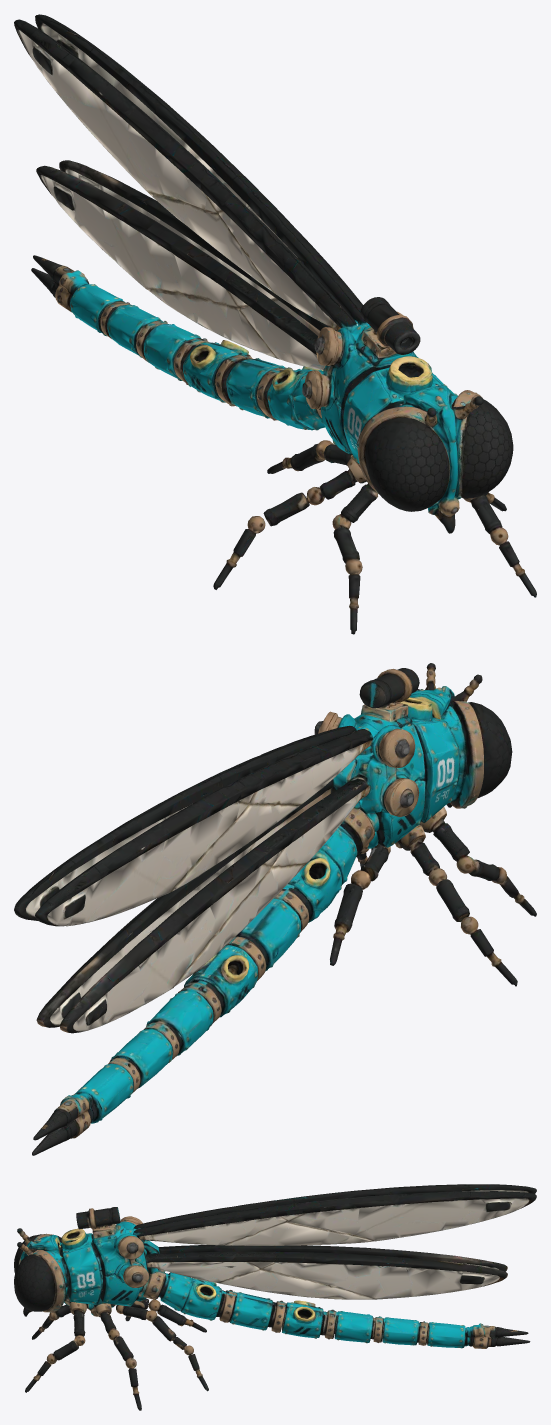
Rendered from dragonfly.glb.
The picture shows the model from 3 angles, top to bottom: view 1: azimuth 30°, elevation 25°; view 2: azimuth 150°, elevation 25°; view 3: azimuth 270°, elevation 25°; orthographic projection. The views are drawn at different scales.
Bounding box in the file's own units: 1.37 × 1.3 × 3.4.
Materials: 1 (1 with a texture image).
